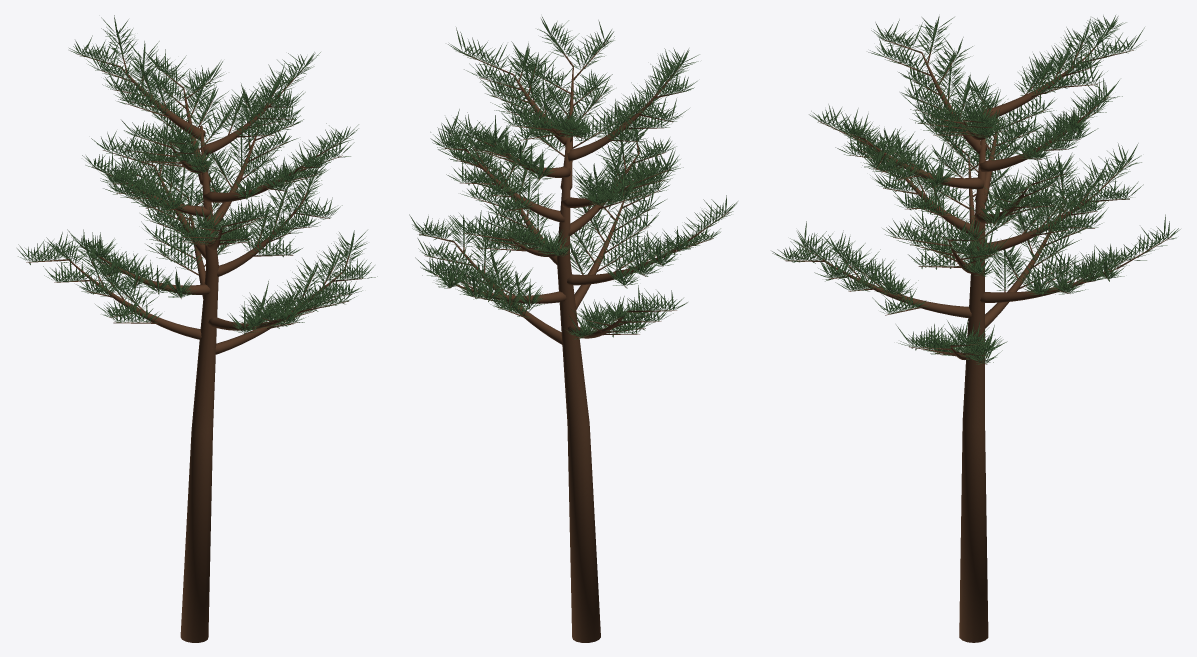
Rendered from mature-scots-pine-source.glb.
3 renders of one model, left to right at view 1: azimuth 30°, elevation 25°; view 2: azimuth 150°, elevation 25°; view 3: azimuth 270°, elevation 25°, orthographic. The views are drawn at different scales.
Parts seen in each view (by area): view 1: Closed conifer needle sprays, Leaning mature pine trunk, Fine connected conifer branchlets, Pine spreading crown limb.001, Pine spreading crown limb, Pine spreading crown limb.014, Pine spreading crown limb.005, Pine spreading crown limb.010; view 2: Closed conifer needle sprays, Leaning mature pine trunk, Fine connected conifer branchlets, Pine spreading crown limb.012, Pine spreading crown limb.004, Pine spreading crown limb.008, Pine spreading crown limb, Pine spreading crown limb.002, Pine spreading crown limb.003; view 3: Closed conifer needle sprays, Leaning mature pine trunk, Fine connected conifer branchlets, Pine spreading crown limb.002, Pine spreading crown limb.003, Pine spreading crown limb.001, Pine spreading crown limb.010, Pine spreading crown limb.014, Pine spreading crown limb.006.
Part boxes in pixels (<box>): Closed conifer needle sprays: <box>17,15,377,334</box>; Leaning mature pine trunk: <box>180,125,218,642</box>; Fine connected conifer branchlets: <box>26,39,364,333</box>; Pine spreading crown limb.001: <box>69,260,201,339</box>; Pine spreading crown limb: <box>215,271,344,354</box>; Pine spreading crown limb.014: <box>120,67,205,140</box>; Pine spreading crown limb.005: <box>217,203,301,276</box>; Pine spreading crown limb.010: <box>204,161,308,202</box>; Closed conifer needle sprays: <box>409,17,737,339</box>; Leaning mature pine trunk: <box>556,116,600,642</box>; Fine connected conifer branchlets: <box>419,34,728,337</box>; Pine spreading crown limb.012: <box>567,88,662,161</box>; Pine spreading crown limb.004: <box>567,241,687,285</box>; Pine spreading crown limb.008: <box>467,150,565,222</box>; Pine spreading crown limb: <box>454,241,562,344</box>; Pine spreading crown limb.002: <box>574,199,625,309</box>; Pine spreading crown limb.003: <box>455,285,566,303</box>; Closed conifer needle sprays: <box>772,15,1180,364</box>; Leaning mature pine trunk: <box>959,106,988,642</box>; Fine connected conifer branchlets: <box>785,28,1171,364</box>; Pine spreading crown limb.002: <box>825,262,971,318</box>; Pine spreading crown limb.003: <box>980,268,1116,303</box>; Pine spreading crown limb.001: <box>985,204,1064,328</box>; Pine spreading crown limb.010: <box>865,139,984,188</box>; Pine spreading crown limb.014: <box>983,55,1087,119</box>; Pine spreading crown limb.006: <box>985,194,1096,252</box>.
Size of the model in its own units: 10.42 by 18 by 11.19.
2 materials, 2 textured.
